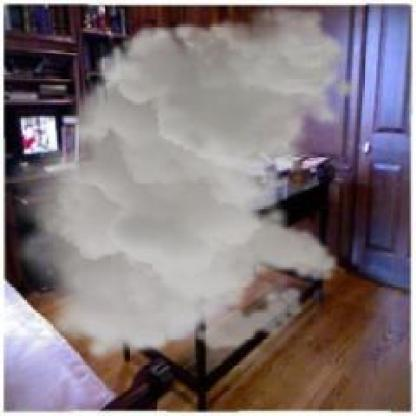Smoke: (2, 3, 362, 362)
